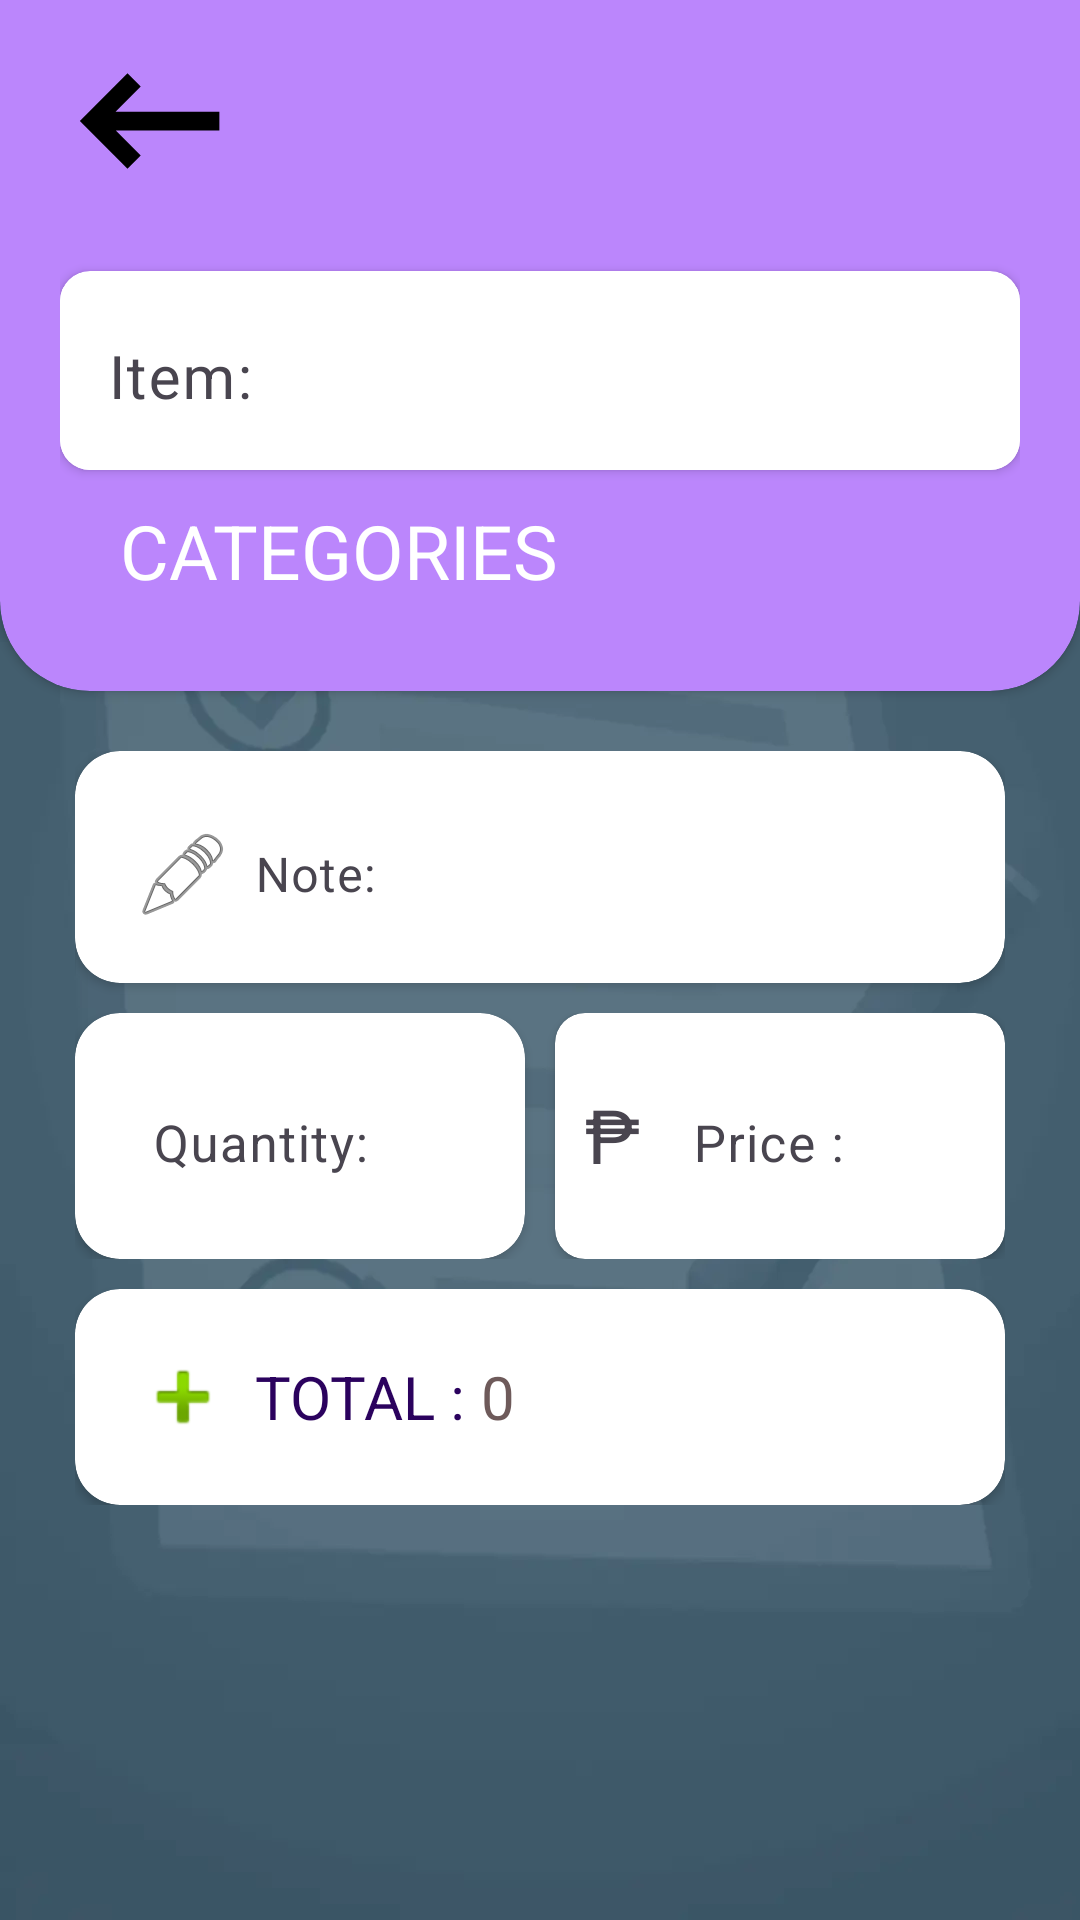

Icon bounding boxes for this 1080×1920 phone screenshot, format {"x1": x1, "y1": y1, "x2": x2, "y2": y2}:
back: {"x1": 80, "y1": 73, "x2": 220, "y2": 169}
